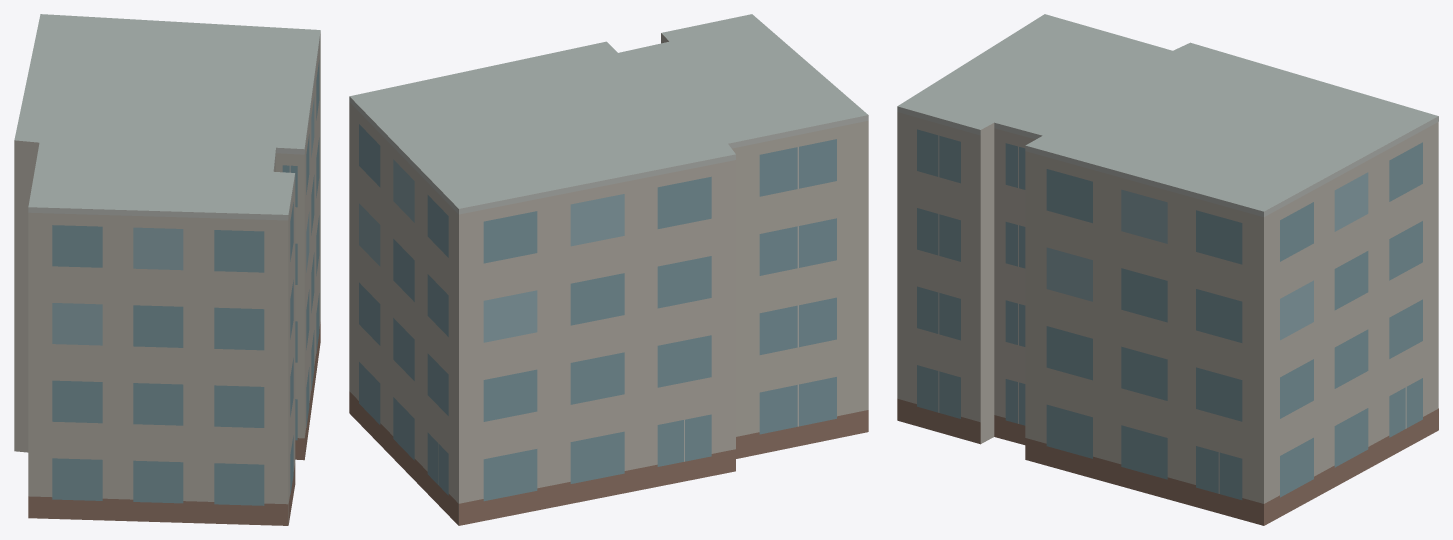
Rendered from survey-upis-32488372.glb.
3 renders of one model, left to right at view 1: azimuth 30°, elevation 25°; view 2: azimuth 150°, elevation 25°; view 3: azimuth 270°, elevation 25°, orthographic.
Parts seen in each view (by area): view 1: survey-upis-32488372.tmp; view 2: survey-upis-32488372.tmp; view 3: survey-upis-32488372.tmp.
Part boxes in pixels (x1=…): survey-upis-32488372.tmp: x1=14, y1=14, x2=320, y2=525; survey-upis-32488372.tmp: x1=349, y1=14, x2=868, y2=525; survey-upis-32488372.tmp: x1=897, y1=14, x2=1438, y2=525.
Size of the model in its own units: 18.52 by 13.72 by 21.43.
